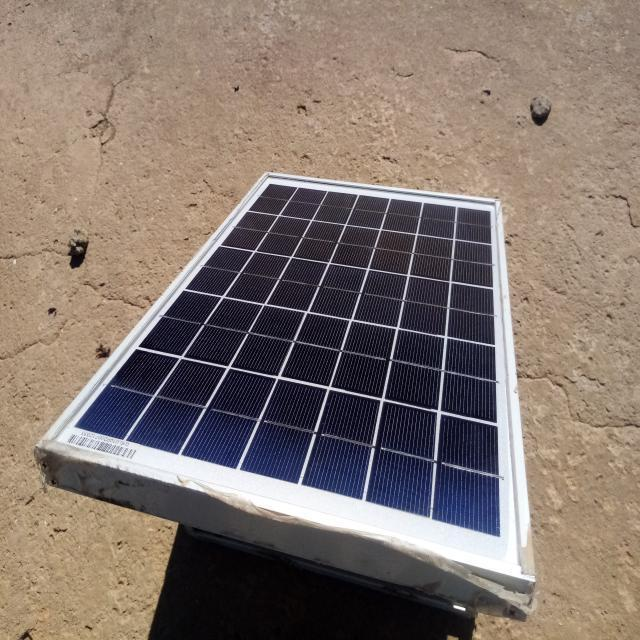Normal Solar Panel: (42, 170, 532, 583)
